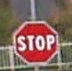stop: (12, 19, 59, 65)
